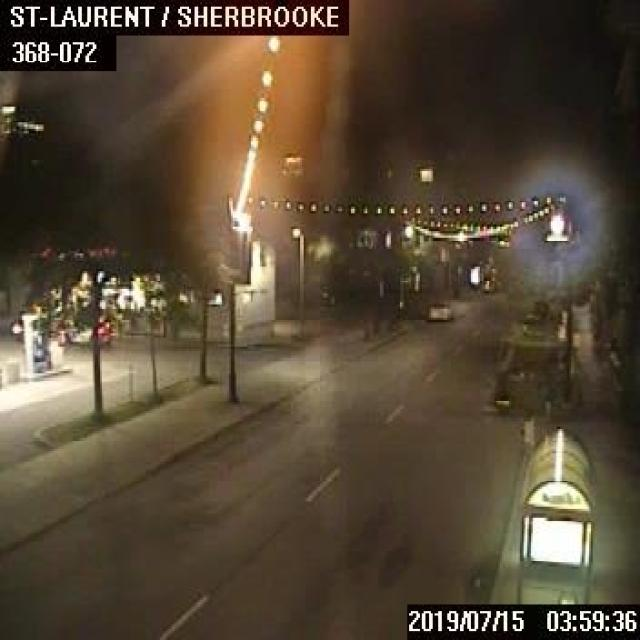vehicle: (57, 316, 112, 346), (427, 300, 449, 320), (479, 277, 494, 292)
